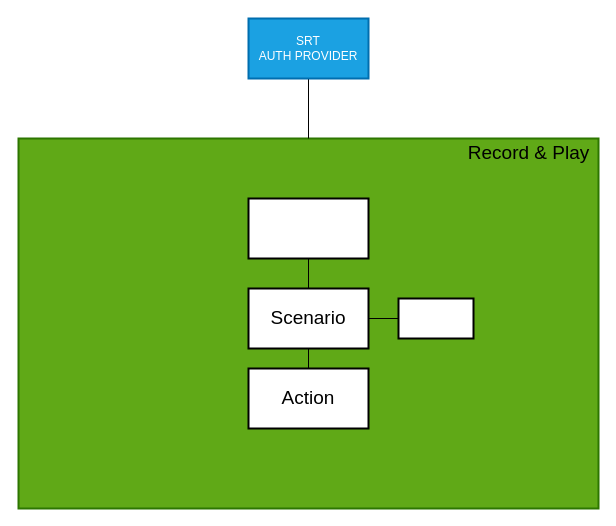
The diagram is 616 pixels wide and 526 high, and some of its shapes have lost their labels. The shapes that lost their labels are listed below. From the top down, each one's centre as x and y in pixels, then its label:
the point at 308,228: Project
the point at 435,318: Template
